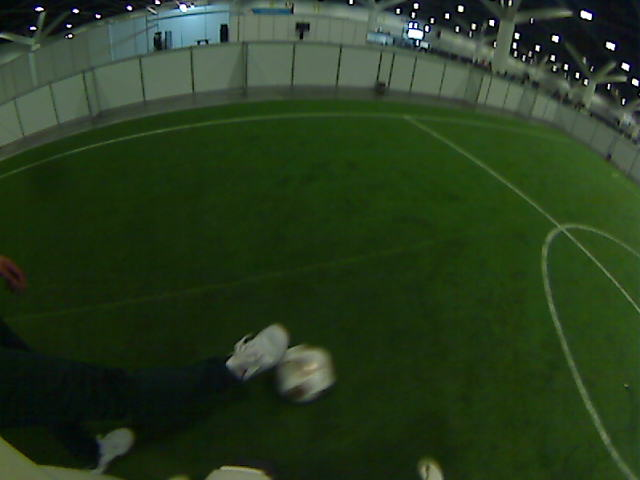ball: (278, 349, 331, 400)
